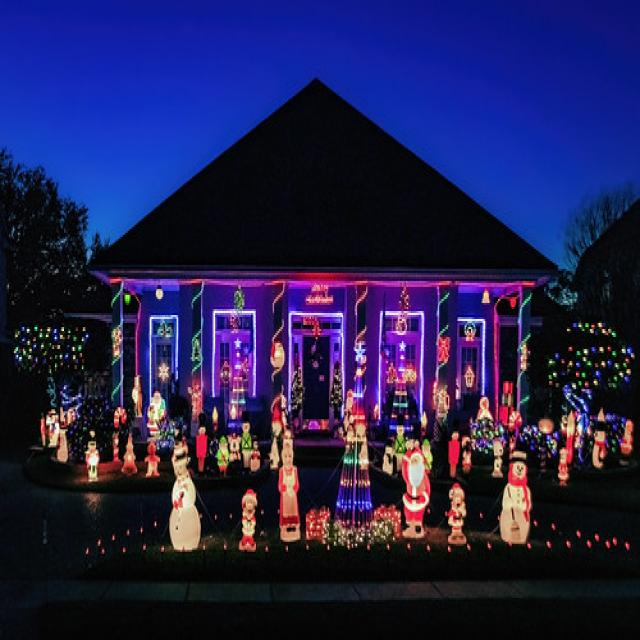Normal_building: (80, 70, 565, 556)
